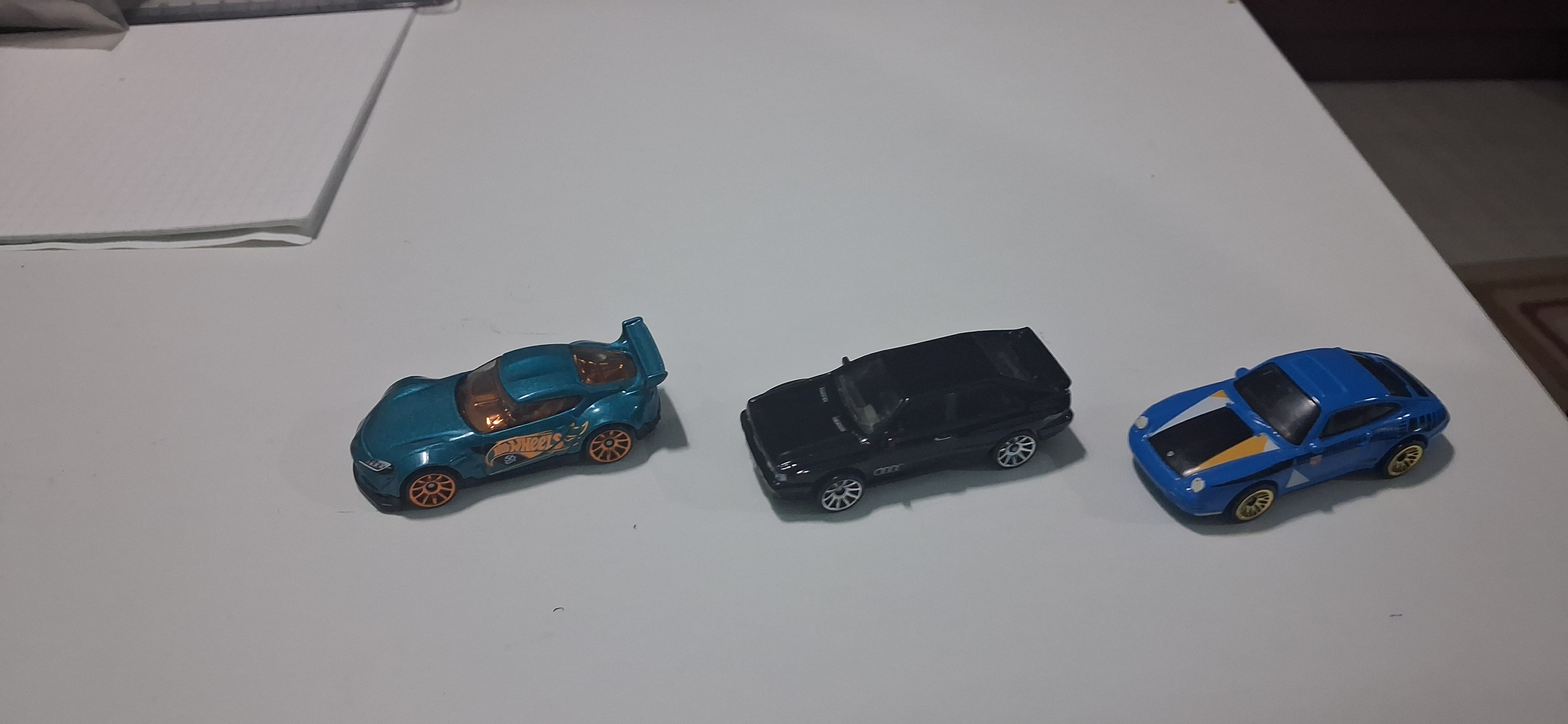Audi_Quattro: (723, 302, 1077, 543)
Porsche_Carrera: (1112, 324, 1459, 551)
Toyota_GR_Supra: (320, 288, 683, 534)
